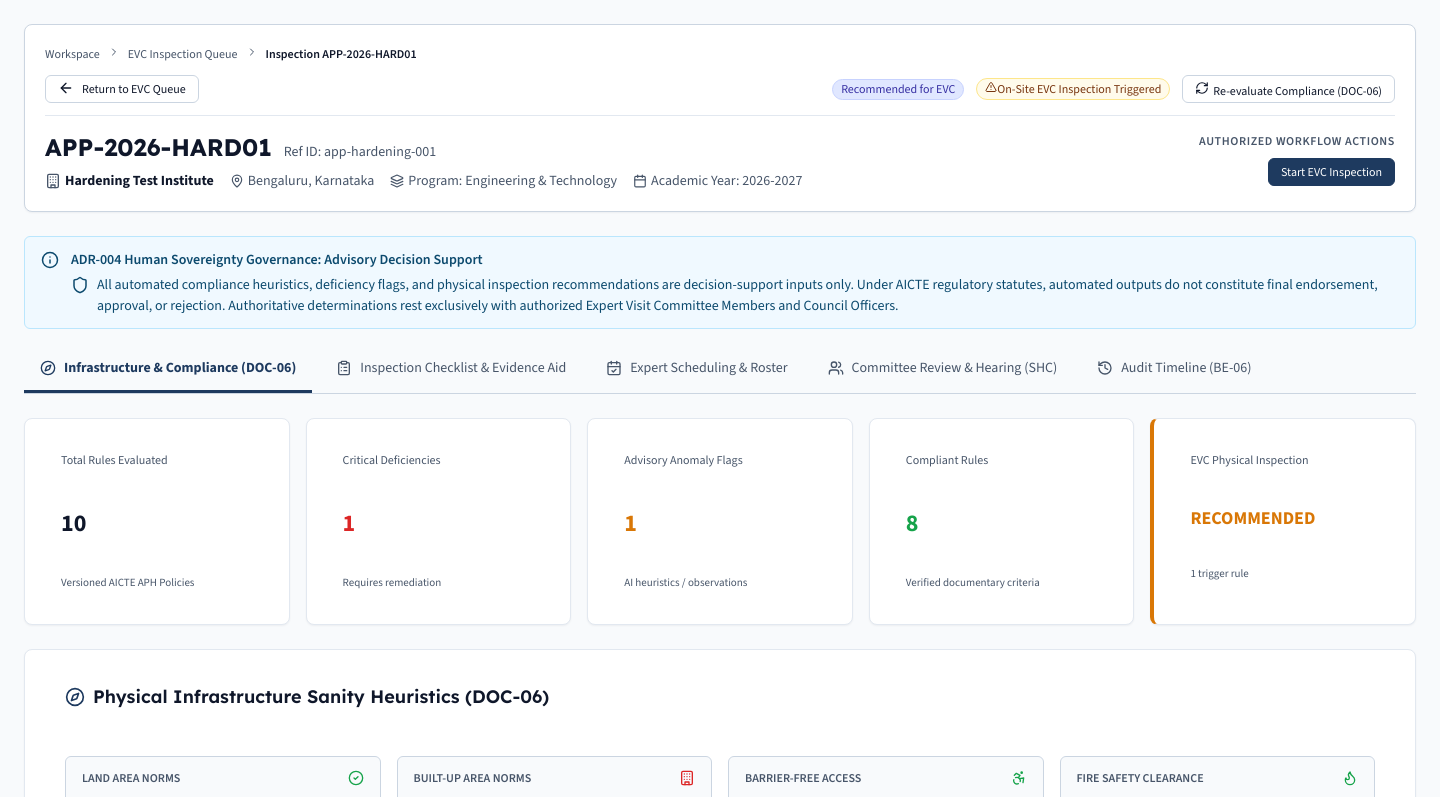
it: Frontend Integration Hardening & Regression Suite › EvcCaseDetailPage Hardening › displays success banner after a workflow transition executes successfully
This screenshot has width=1440, height=797.
Expected: the text "Hardening Test Institute" is shown, [65,170,214,191]
Click Start EVC Inspection button in header
Click the button "Start EVC Inspection": (1332, 172) [1268,158,1395,186]
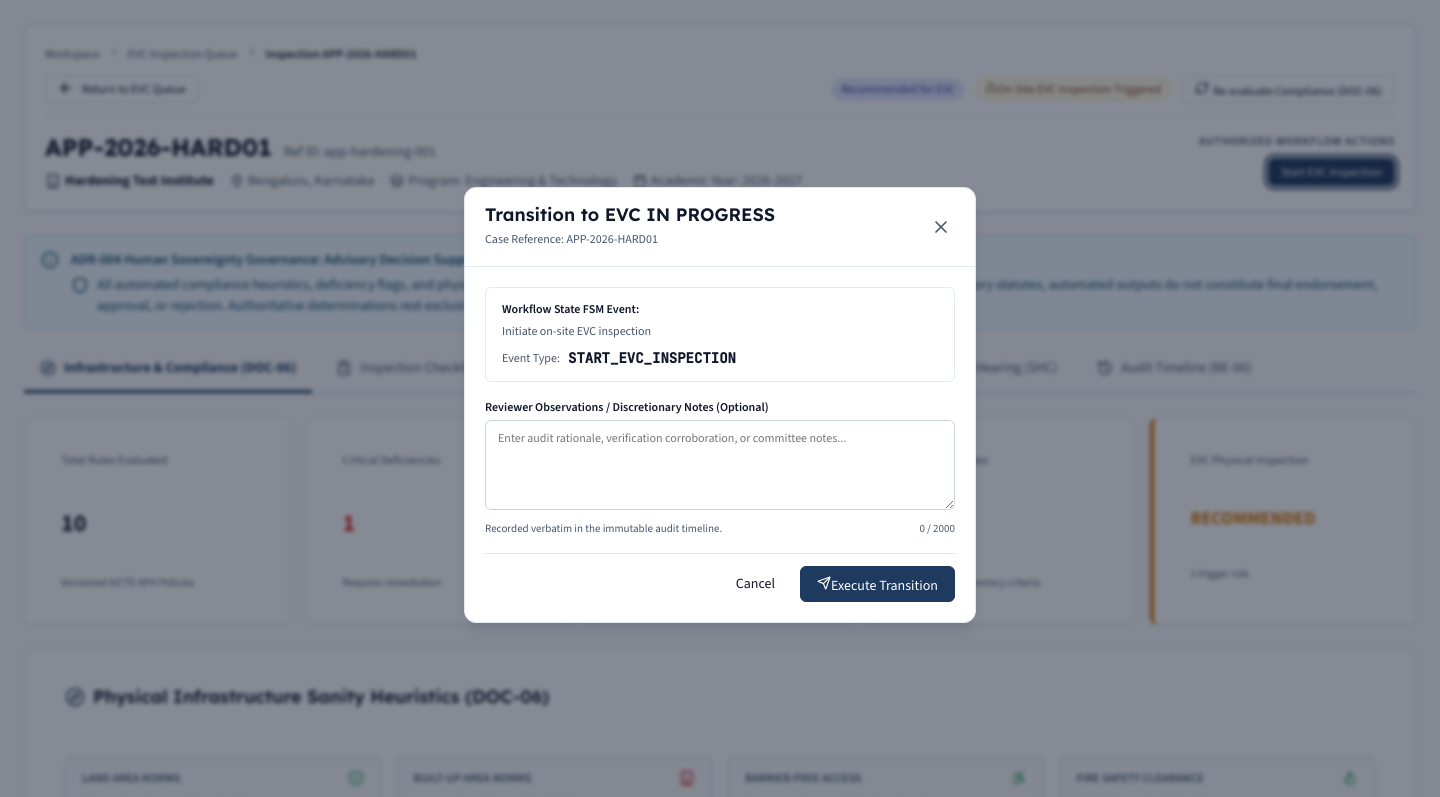
Now the text "Execute Transition" is shown, box [831,576,938,595]
Submit modal
Click the button "Execute Transition": (878, 584) [800,566,955,602]
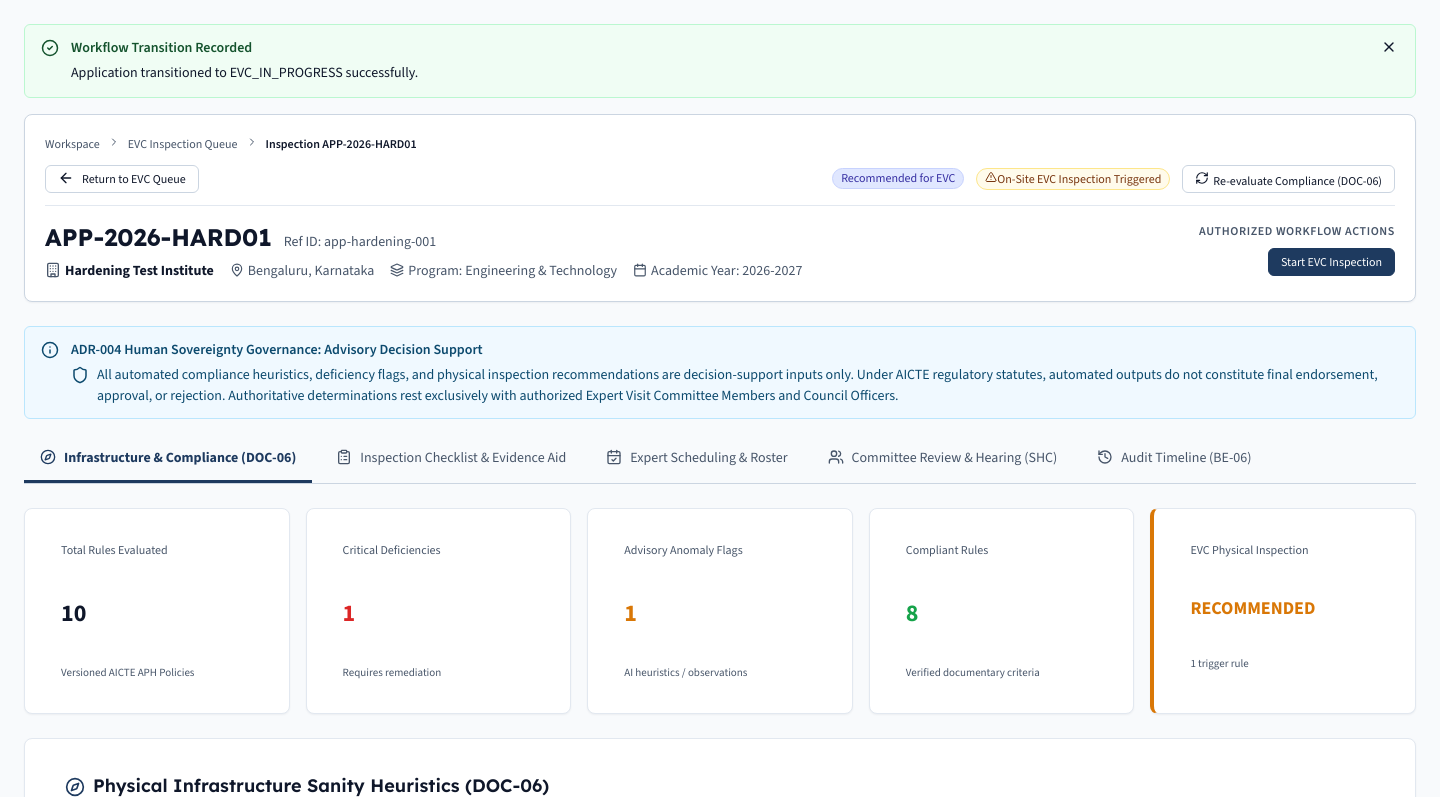
Now the text "Workflow Transition Recorded" is shown, box [71,38,252,57]
Now the text "Application transitioned to EVC_IN_PROGRESS successfully." is shown, box [71,63,418,82]
